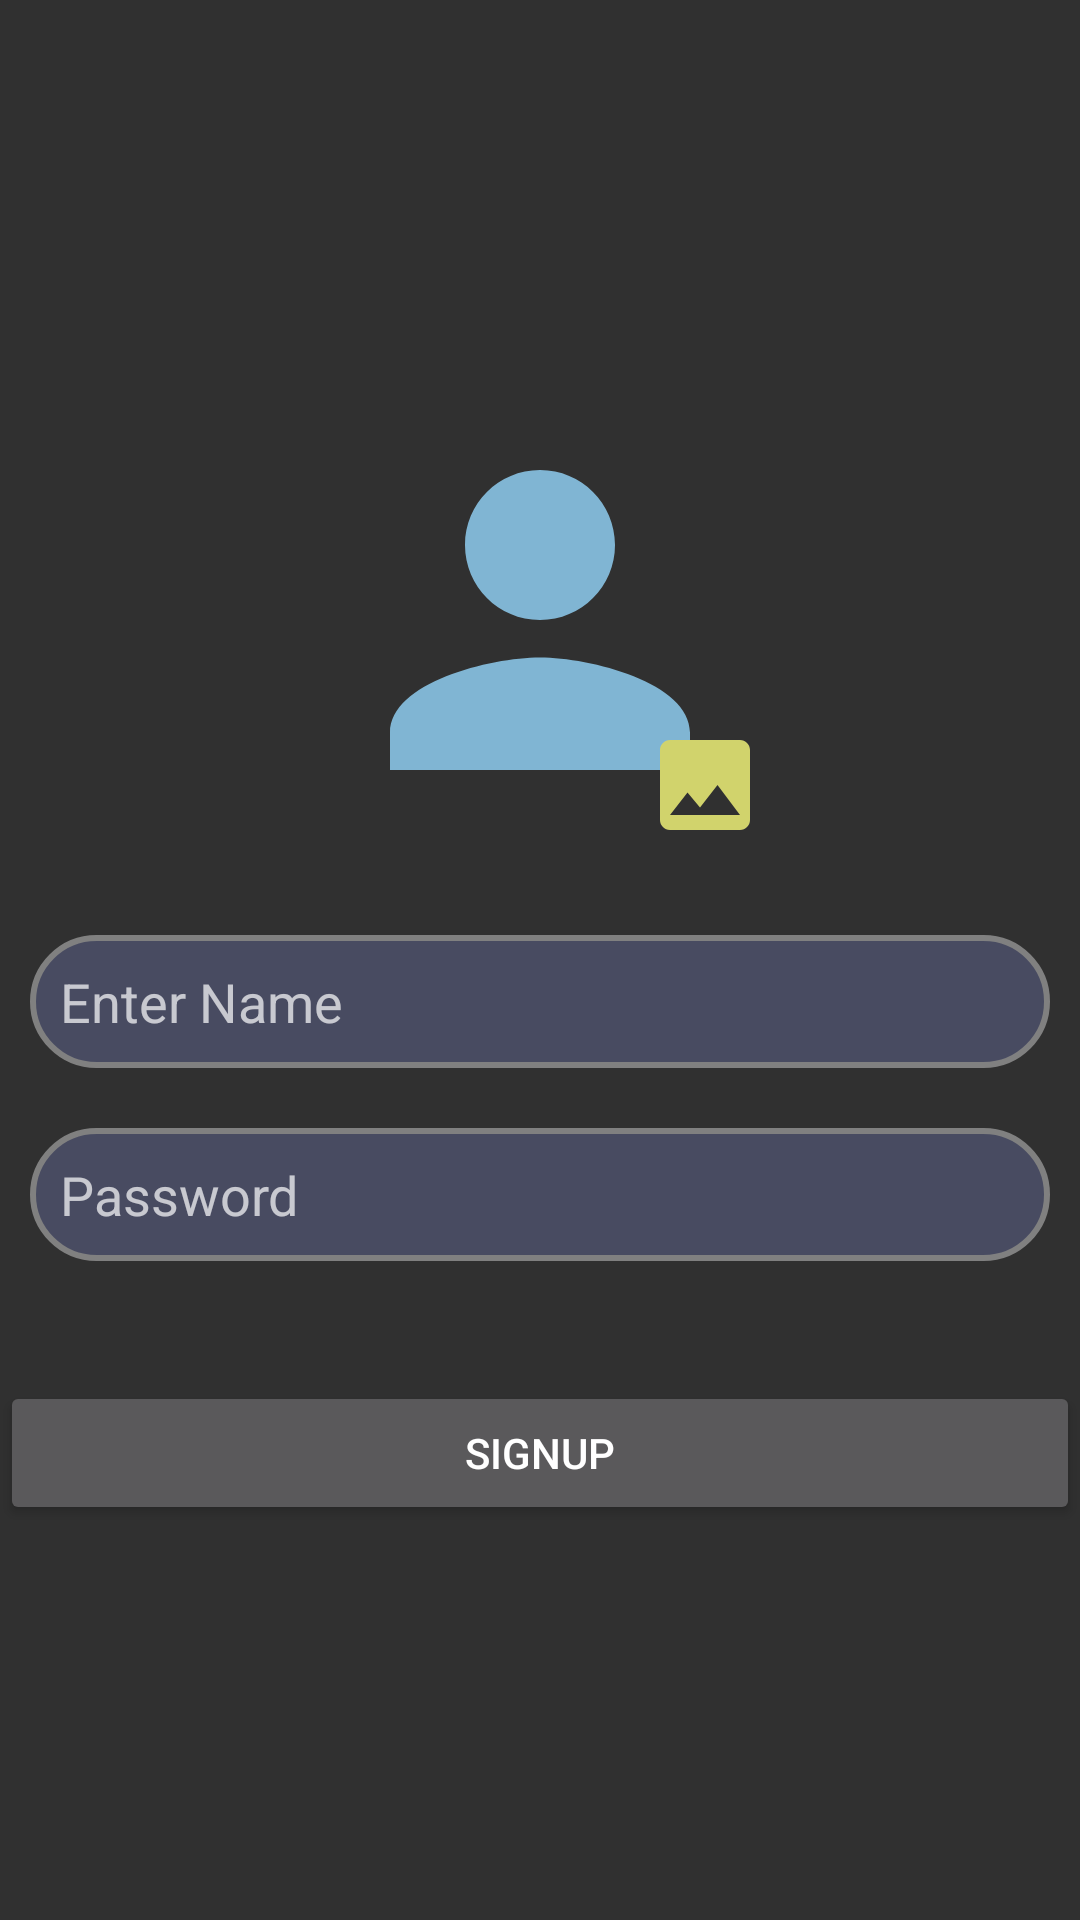

Where to tap for icons on this 1080px×1920px app screen, as (x=x, y=y):
person: (x=570, y=650)
